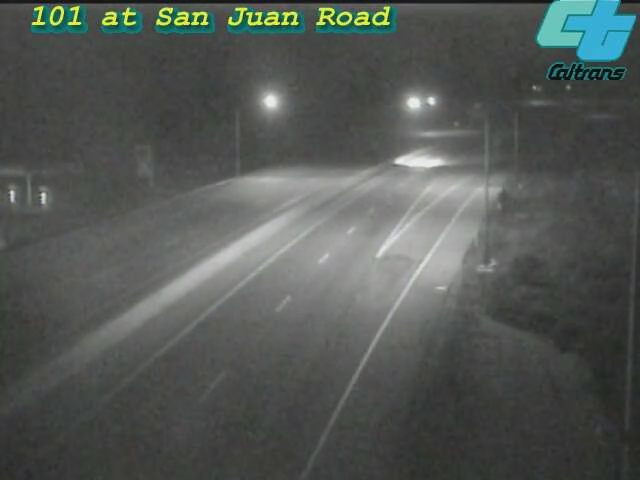vehicle: (386, 118, 466, 198)
